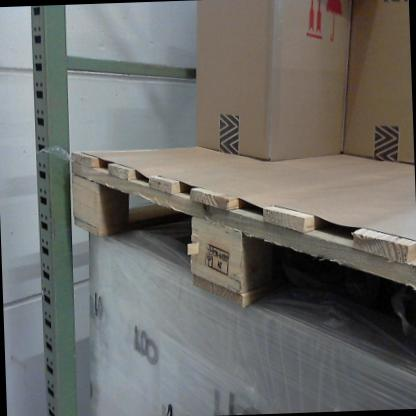pallet: (64, 121, 416, 337)
